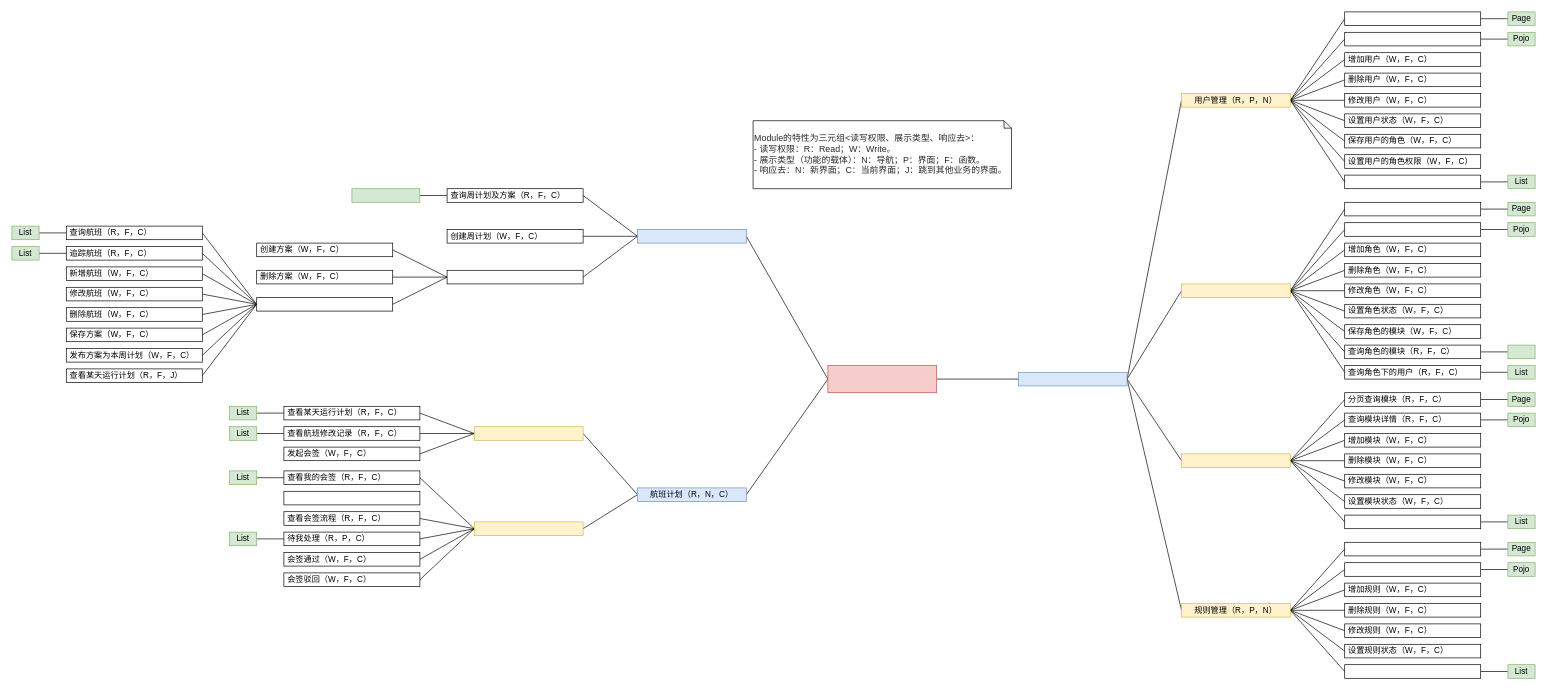
The diagram is 1547 pixels wide and 690 high, and some of its shapes have lost their labels. Here are the shapes that lost their labels. From the top down, the centre of each, then its label:
the point at 1412,18: 分页查询用户（R，F，C）
the point at 1412,39: 查询用户详情（R，F，C）
the point at 385,195: Map<String, List>
the point at 1412,181: 查询用户的角色（R，F，C）
the point at 1412,209: 分页查询角色（R，F，C）
the point at 1412,229: 查询角色详情（R，F，C）
the point at 691,236: 周计划（R，P，N）
the point at 514,277: 查询周计划的方案（R，F，C）
the point at 1235,290: 角色管理（R，P，N）
the point at 324,304: 查看方案（R，P，N）
the point at 1521,351: Tree
the point at 882,379: 航班管理（R，N，C）
the point at 1072,379: 权限管理（R，N，C）
the point at 528,433: 运行计划（R，P，N）
the point at 1235,460: 模块管理（R，P，N）
the point at 351,498: 取消会签（W，F，C）
the point at 528,528: 会签管理（R，P，N）
the point at 1412,521: 查询模块下的角色（R，F，C）
the point at 1412,549: 分页查询规则（R，F，C）
the point at 1412,569: 查询规则详情（R，F，C）
the point at 1412,671: 查询规则下的用户角色（R，F，C）
